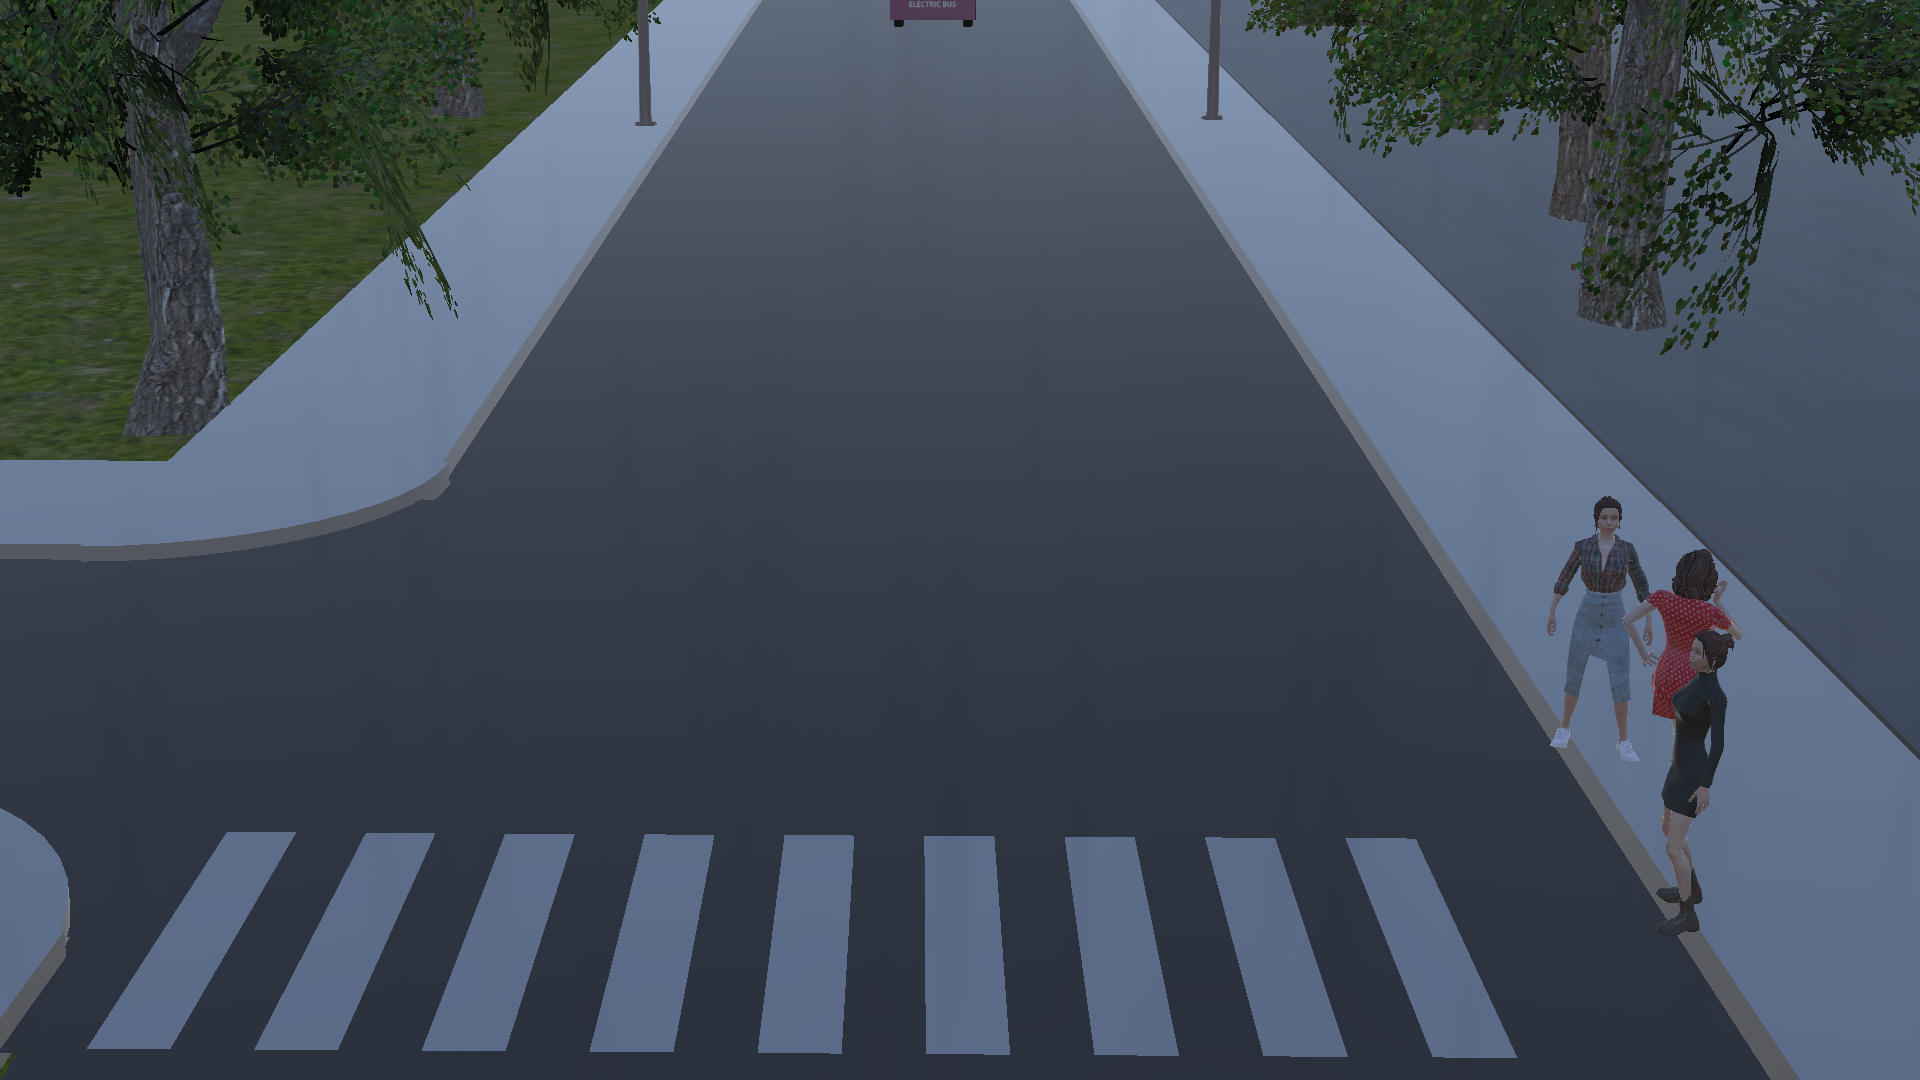pedestrian: (1539, 484, 1648, 769), (1651, 630, 1724, 940), (1635, 520, 1708, 743)
